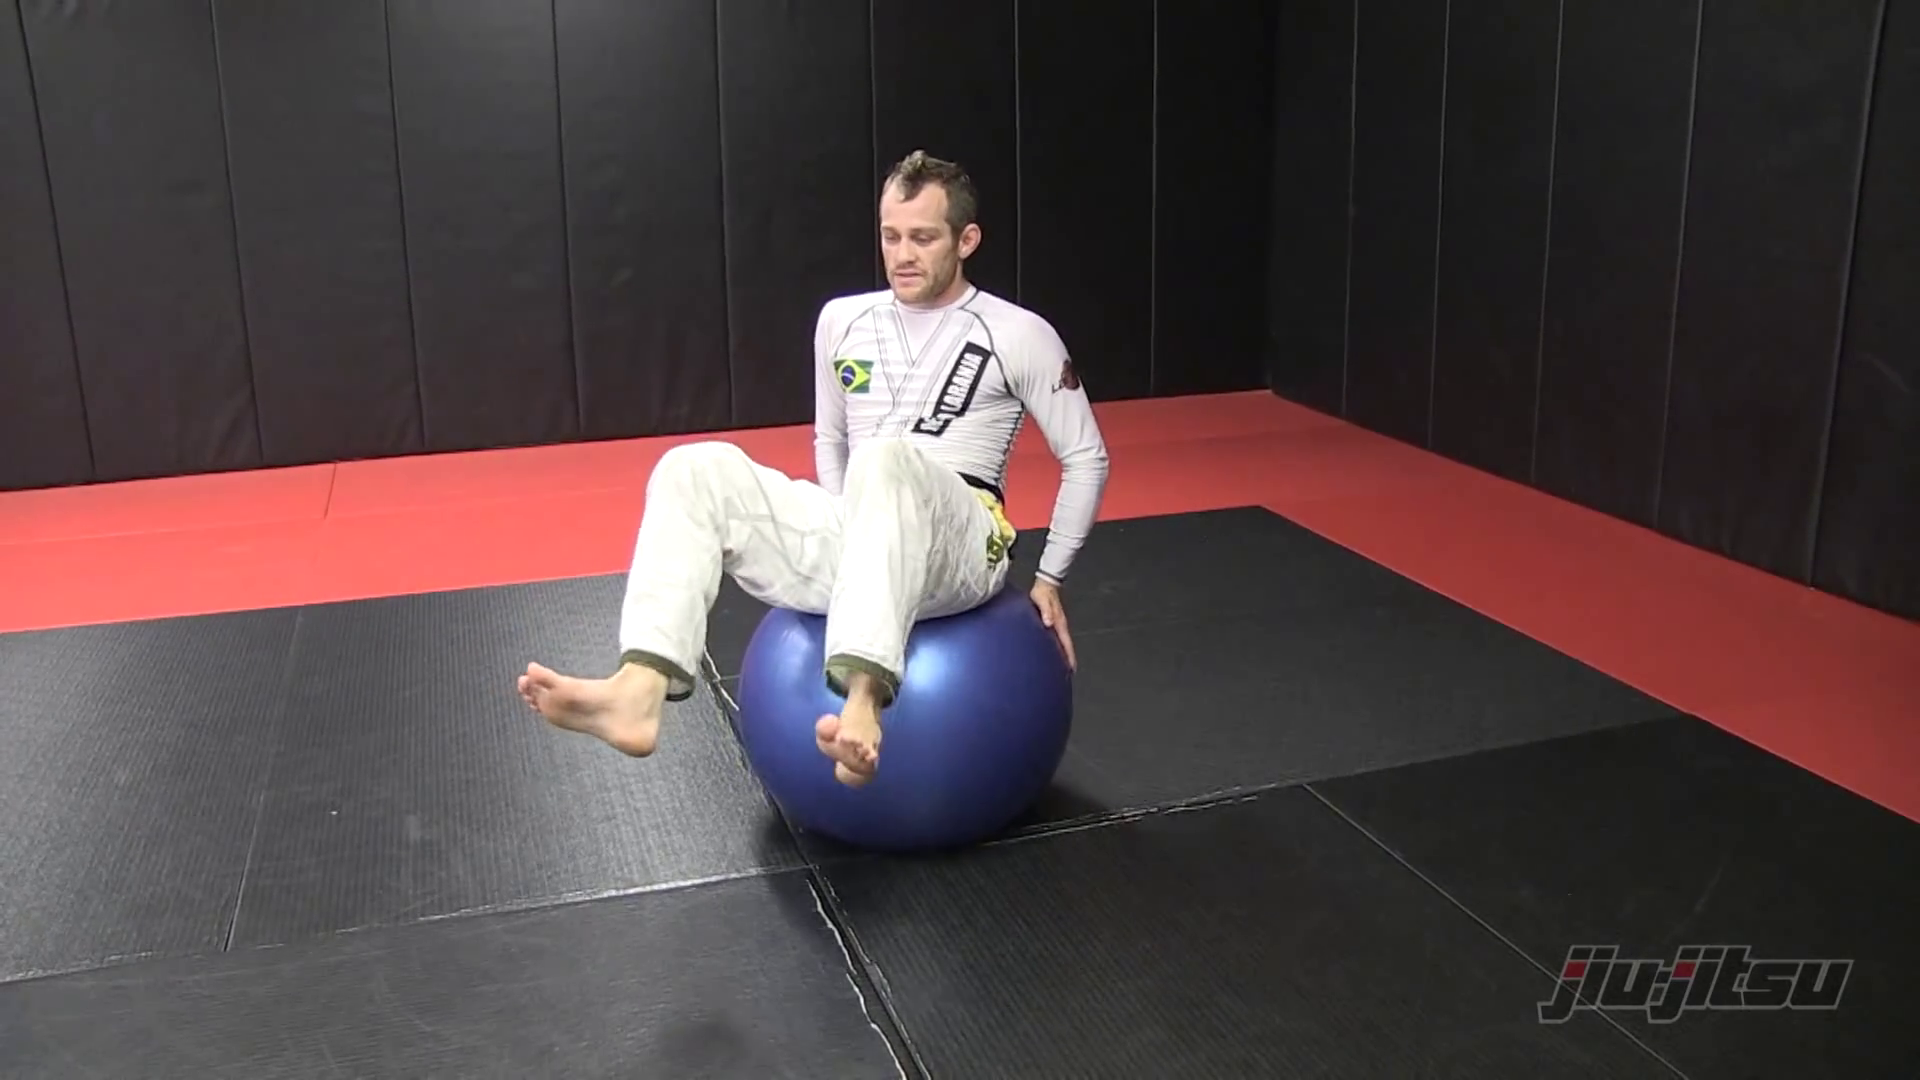yogaball: (731, 570, 1084, 870)
